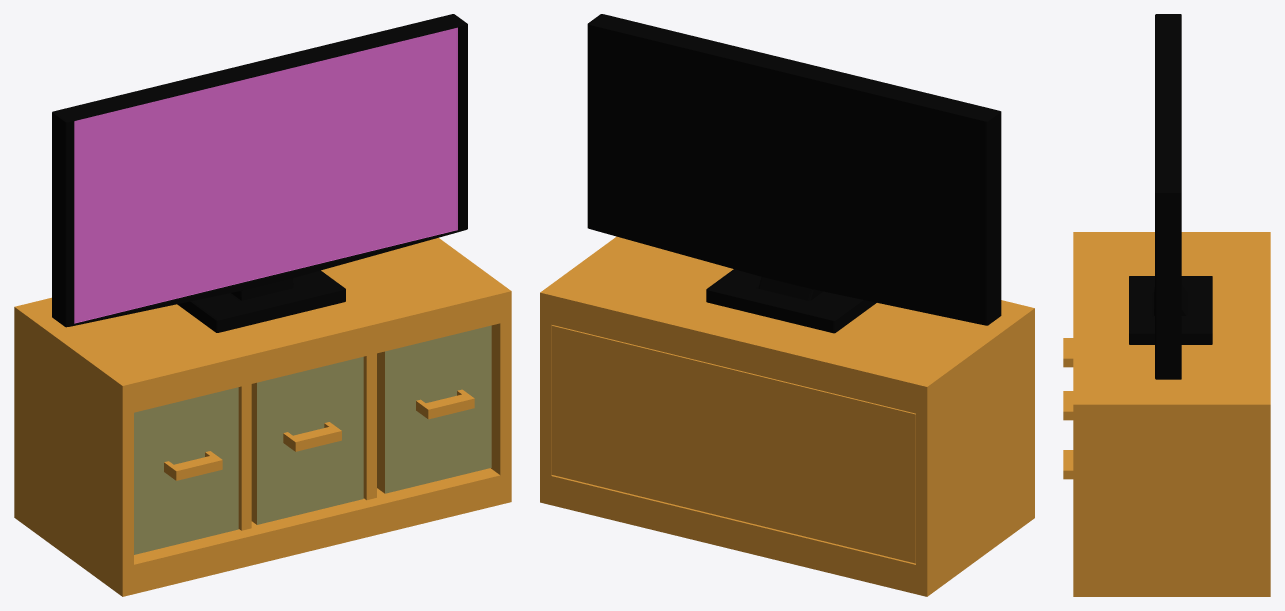
Rendered from tv_tvstand.glb.
The picture shows the model from 3 angles, left to right: view 1: azimuth 30°, elevation 25°; view 2: azimuth 150°, elevation 25°; view 3: azimuth 270°, elevation 25°; orthographic projection. The views are drawn at different scales.
Visible parts, largest first — view 1: TVstand, TV; view 2: TVstand, TV; view 3: TVstand, TV.
Boxes of the visible parts, x1,y1,x2,y2 form: TVstand: (14, 238, 511, 596); TV: (52, 14, 467, 332); TVstand: (540, 236, 1034, 596); TV: (587, 14, 1001, 333); TVstand: (1063, 232, 1270, 596); TV: (1129, 14, 1212, 379).
Size of the model in its own units: 2.15 by 2.27 by 1.05.
